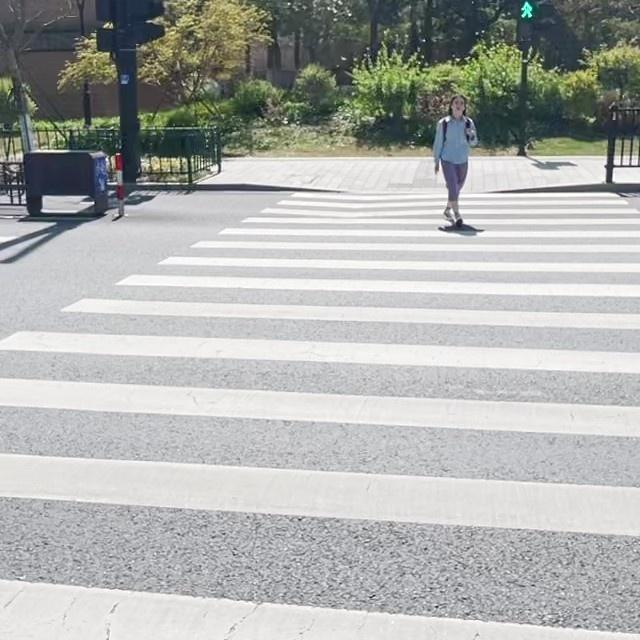curb: (137, 183, 347, 192), (485, 183, 639, 195)
